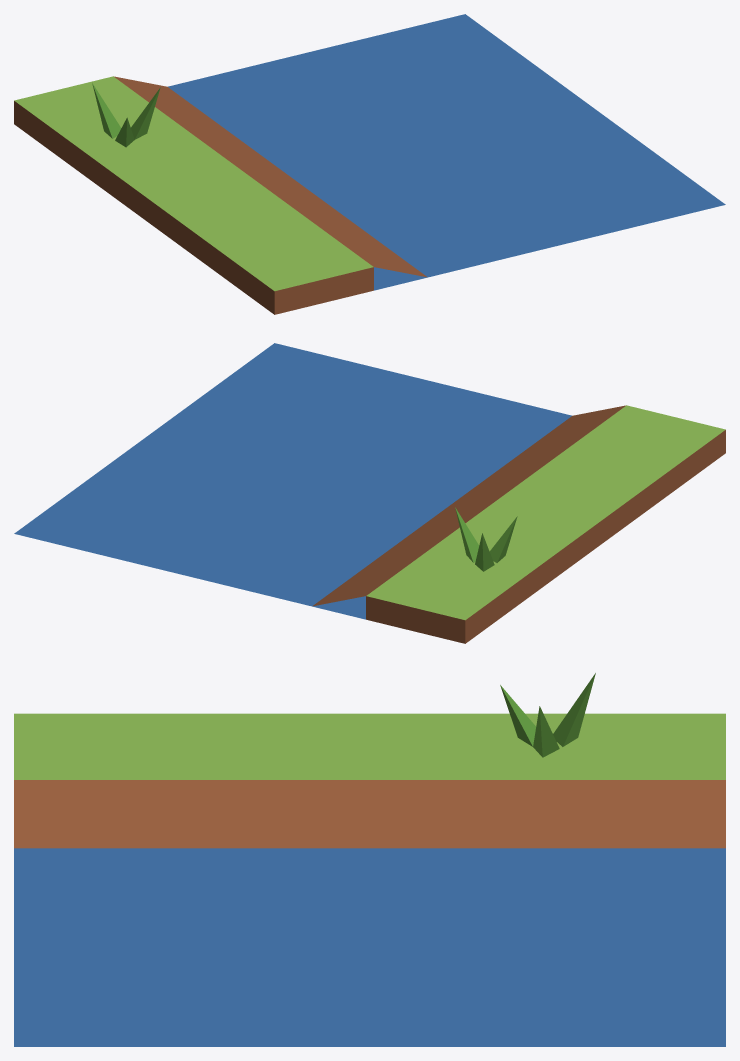
File: water_pond_edge.glb
3 renders of one model, top to bottom at view 1: azimuth 30°, elevation 25°; view 2: azimuth 150°, elevation 25°; view 3: azimuth 270°, elevation 25°, orthographic. The views are drawn at different scales.
Parts seen in each view (by area): view 1: water_pond_edge; view 2: water_pond_edge; view 3: water_pond_edge.
Boxes of the visible parts, x1=… form: water_pond_edge: x1=14, y1=14, x2=725, y2=314; water_pond_edge: x1=14, y1=343, x2=725, y2=643; water_pond_edge: x1=14, y1=673, x2=725, y2=1046.
Size of the model in its own units: 1 by 0.1461 by 1.
1 material, 1 textured.
